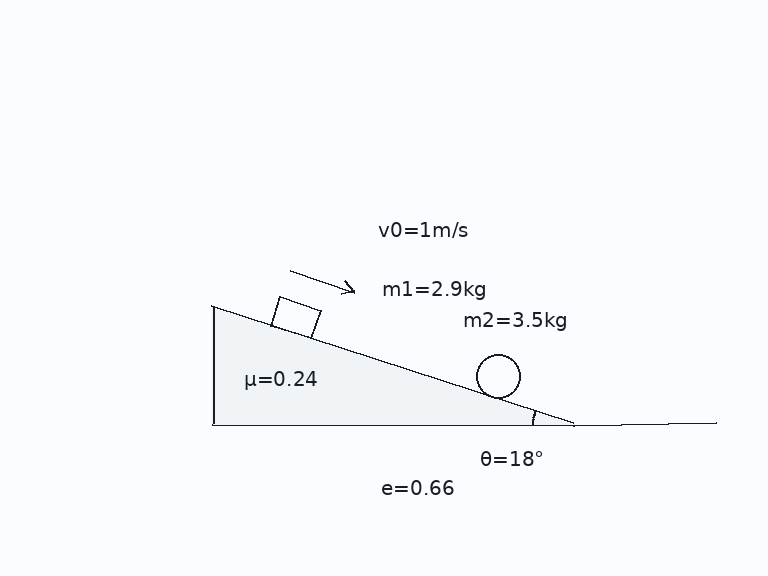ball: (474, 352, 522, 400)
block: (269, 295, 322, 341)
ramp: (210, 305, 575, 426)
